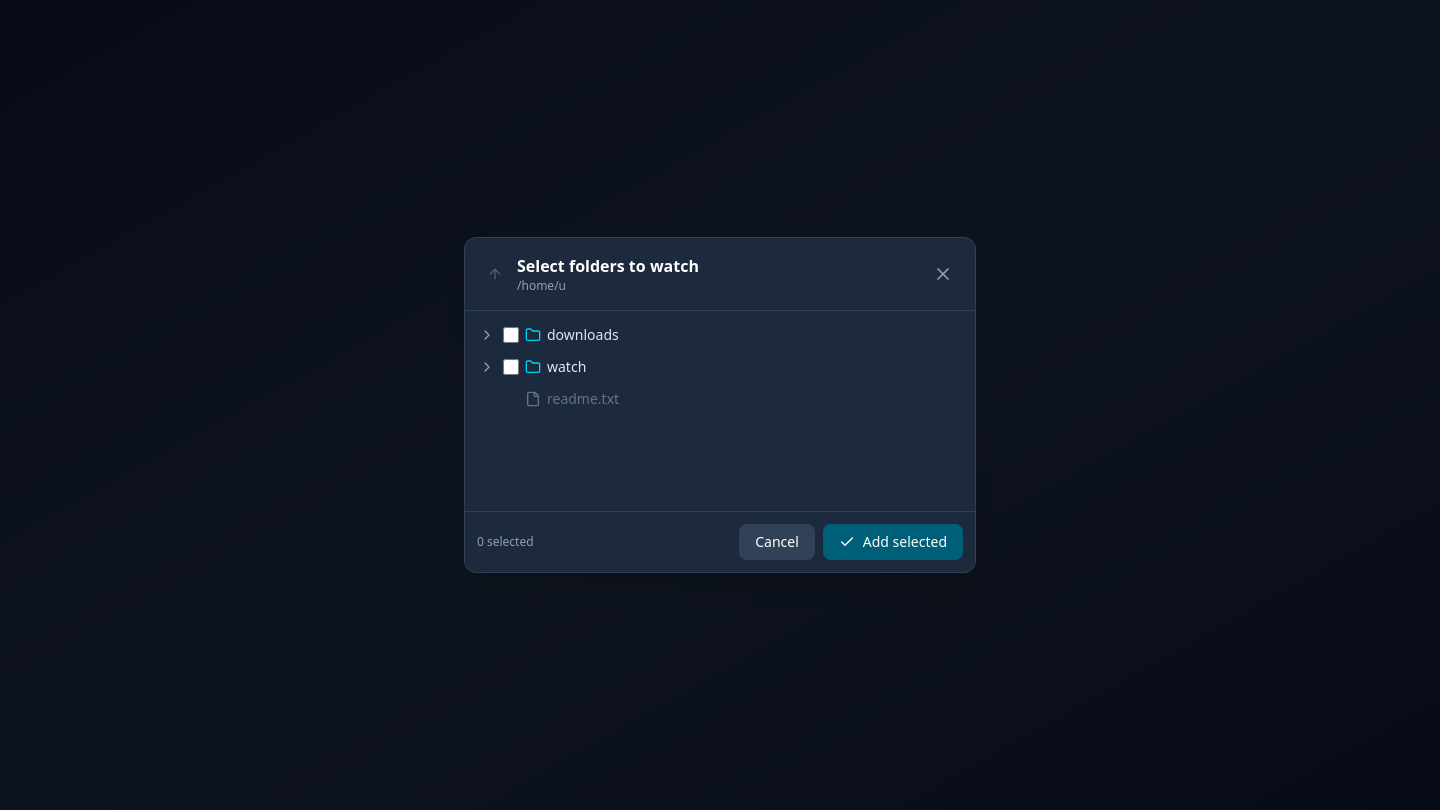
FolderBrowser › reports a folder that will not list, without losing the rest of the tree
Expected: the button "watch" is shown, left=547, top=357, right=959, bottom=377
Click the 2nd button named "Expand" at coordinates (487, 367), box left=477, top=357, right=497, bottom=377
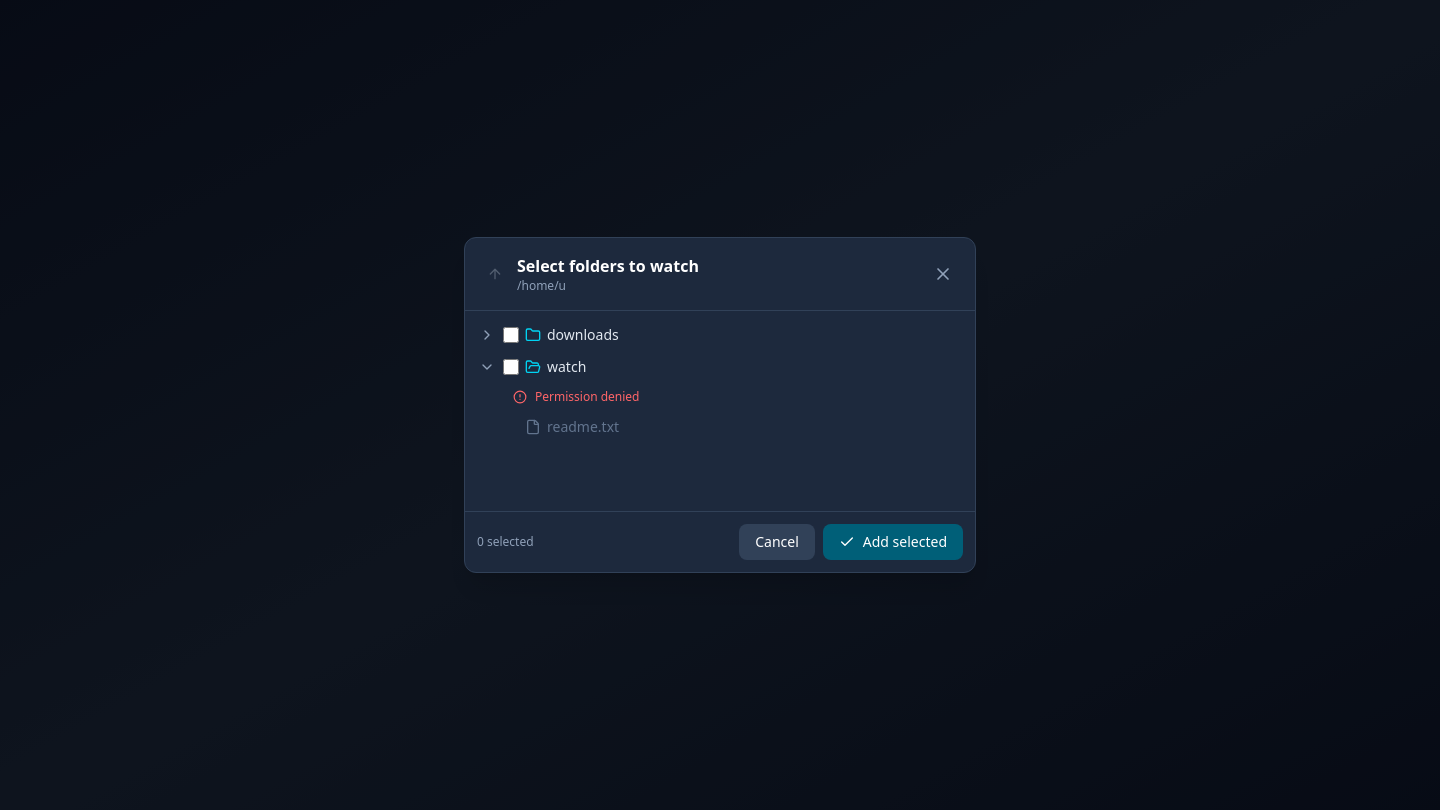
Expected: the button "downloads" is shown, left=547, top=325, right=959, bottom=345
Expected: the text "Permission denied" is shown, left=513, top=388, right=640, bottom=405
